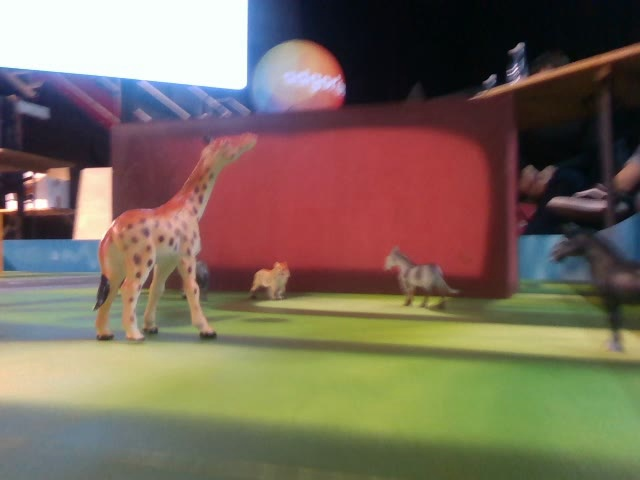toy: (89, 121, 259, 349)
